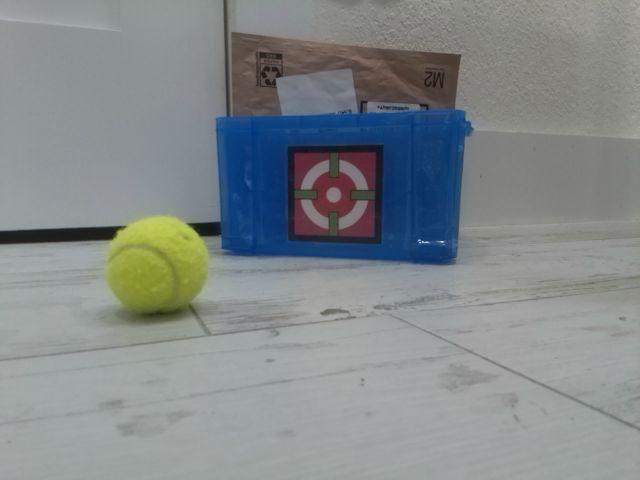drop-bin: (285, 143, 383, 245)
yellow-ball: (105, 214, 210, 317)
